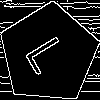L: (23, 29, 77, 77)
